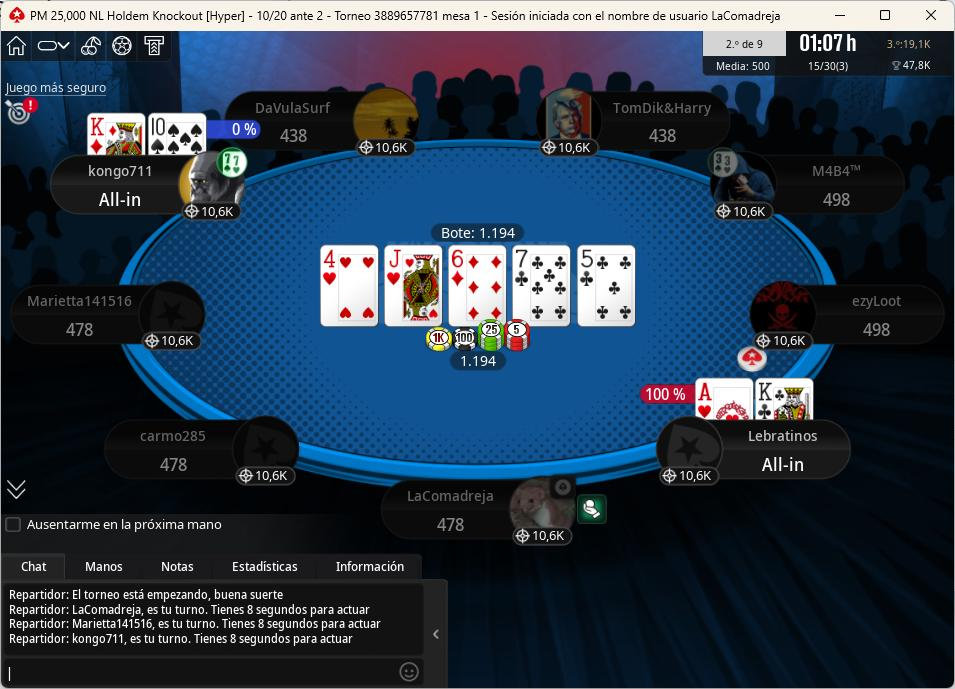Player: (651, 420, 851, 489), (51, 150, 255, 217), (706, 150, 909, 217), (749, 282, 950, 349), (107, 420, 308, 486), (12, 284, 209, 350), (225, 89, 419, 155), (543, 91, 730, 157)
PlayerChips: (757, 453, 814, 476), (95, 187, 147, 210), (58, 322, 103, 343), (643, 129, 689, 148), (859, 322, 900, 342), (151, 455, 192, 474), (274, 129, 316, 146), (819, 192, 860, 209)
Pot: (428, 223, 527, 243)
PrincipalPlayer: (380, 478, 586, 551)
PrincipalPlayerChips: (428, 518, 476, 537)
ShowedCards: (317, 243, 640, 334)
ShowedCards1: (318, 243, 380, 330)
ShowedCards2: (384, 243, 444, 326)
ShowedCards3: (447, 245, 509, 327)
ShowedCards4: (512, 244, 572, 328)
ShowedCards5: (577, 243, 634, 328)
SmallBigBlind: (246, 4, 335, 28)
TablePot: (419, 320, 550, 382)
